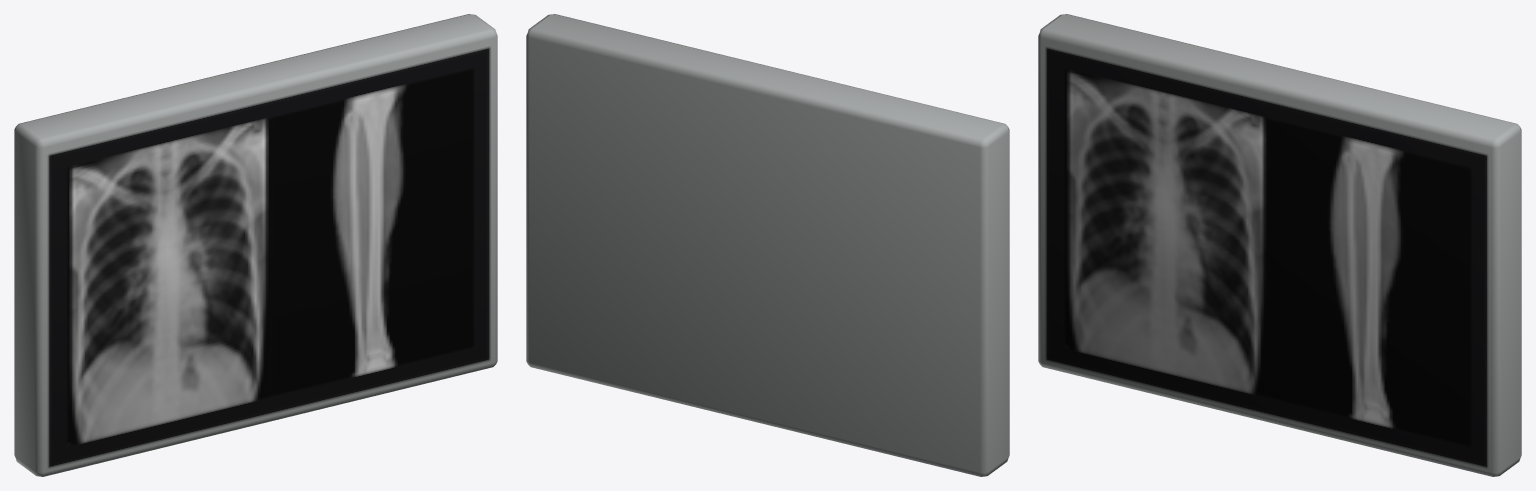
The model's file is view box2.FBX.
3 renders of one model, left to right at view 1: azimuth 30°, elevation 25°; view 2: azimuth 150°, elevation 25°; view 3: azimuth 330°, elevation 25°, orthographic.
Parts seen in each view (by area): view 1: view box2; view 2: view box2; view 3: view box2.
Part boxes in pixels (x1=…): view box2: x1=14, y1=14, x2=497, y2=476; view box2: x1=526, y1=14, x2=1009, y2=476; view box2: x1=1038, y1=14, x2=1521, y2=476.
Bounding box in the file's own units: 28.73 × 2.86 × 20.12.
